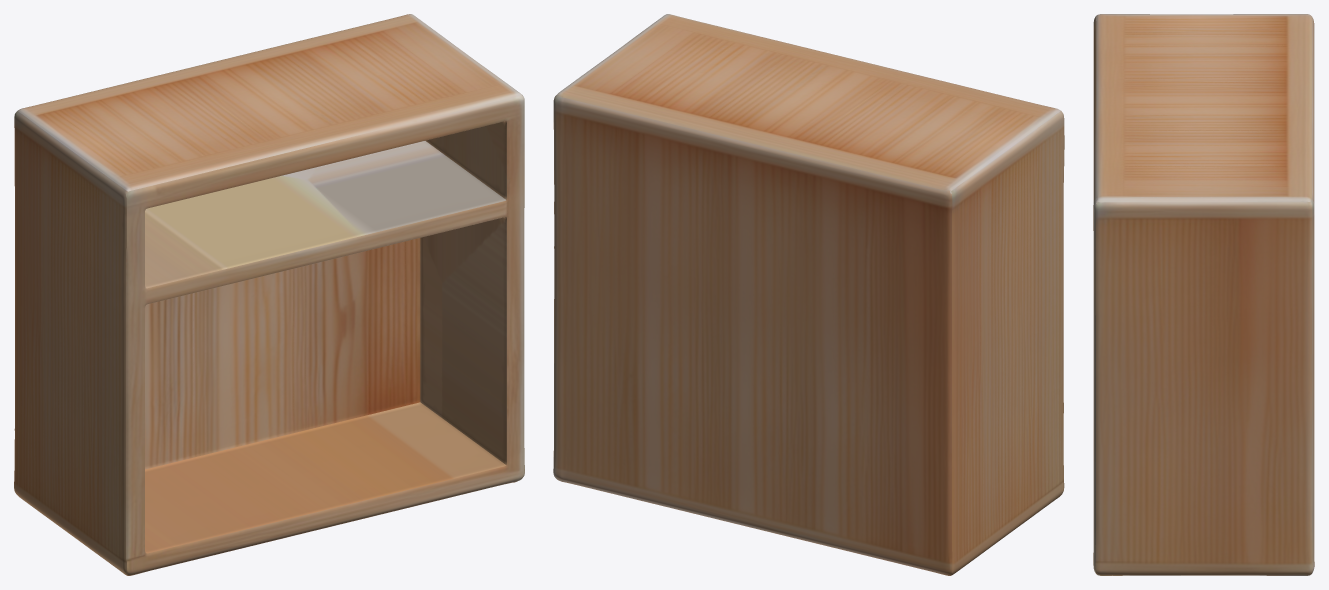
Rendered from woodenshelf.fbx.
3 renders of one model, left to right at view 1: azimuth 30°, elevation 25°; view 2: azimuth 150°, elevation 25°; view 3: azimuth 270°, elevation 25°, orthographic. The views are drawn at different scales.
Visible parts, largest first — view 1: tmp8f4or2ky.ply; view 2: tmp8f4or2ky.ply; view 3: tmp8f4or2ky.ply.
Part boxes in pixels (x1,y1,x2,y2): tmp8f4or2ky.ply: (14,14,524,575); tmp8f4or2ky.ply: (553,14,1064,575); tmp8f4or2ky.ply: (1093,14,1314,575).
Size of the model in its own units: 99.29 by 92.02 by 48.83.
Materials: 1 (1 with a texture image).
